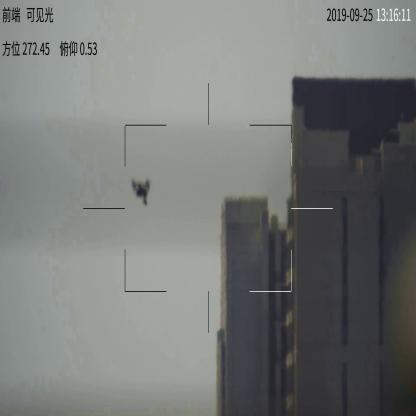uav: (131, 177, 152, 204)
